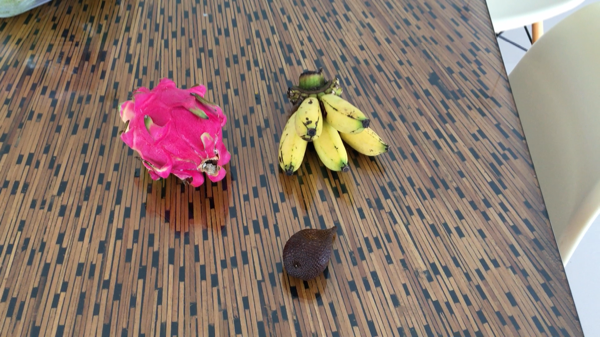banana: (273, 67, 389, 179)
dragon fruit: (121, 82, 234, 188)
snake fruit: (285, 224, 342, 278)
